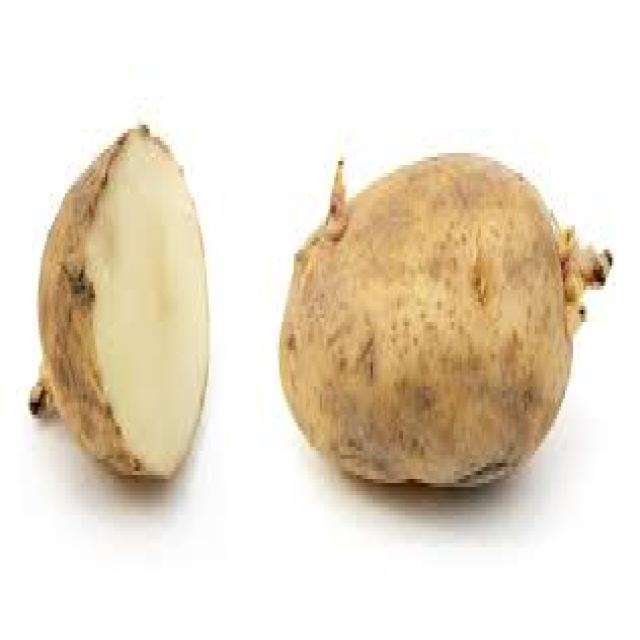Wet Waste: (293, 153, 614, 497), (38, 109, 212, 474)
